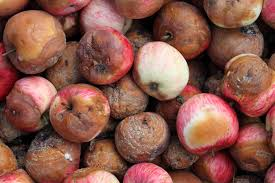damaged_apple: (177, 89, 237, 151), (50, 84, 112, 138), (77, 27, 134, 83), (134, 43, 190, 100), (223, 53, 272, 117), (5, 16, 62, 67), (4, 78, 59, 130), (156, 4, 209, 57), (117, 111, 172, 162), (27, 129, 81, 177), (208, 21, 263, 67), (77, 134, 132, 177), (101, 74, 152, 118)
